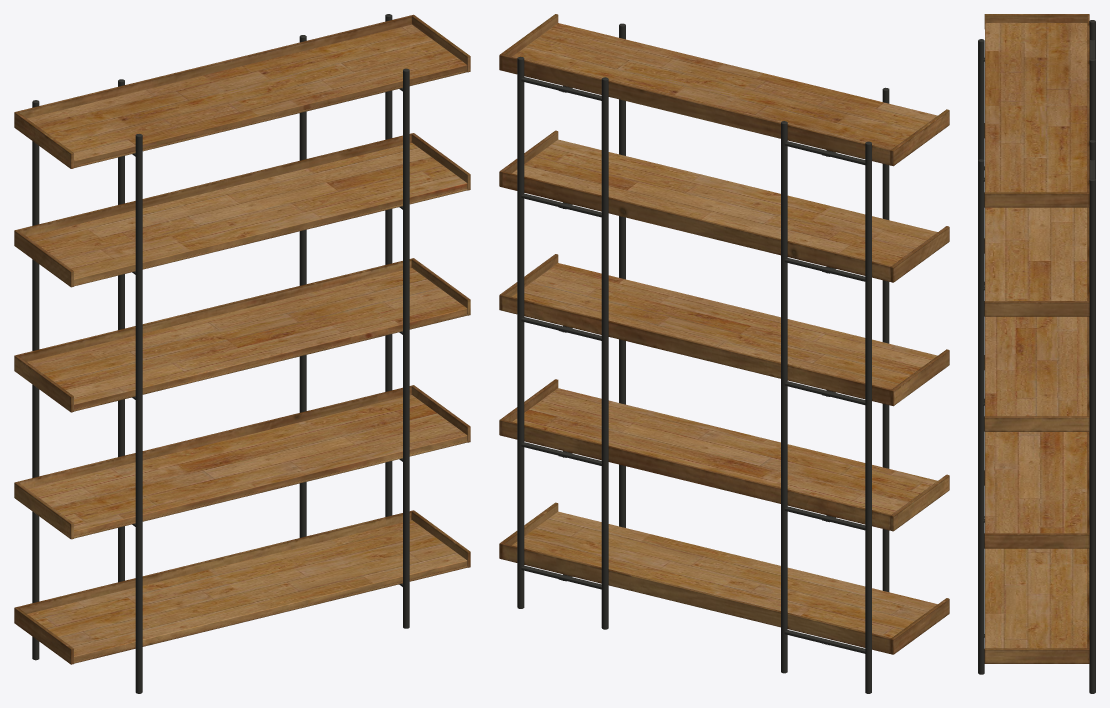
The model's file is bookshelf_B07HSLTLGP.glb.
The picture shows the model from 3 angles, left to right: view 1: azimuth 30°, elevation 25°; view 2: azimuth 150°, elevation 25°; view 3: azimuth 270°, elevation 25°; orthographic projection. The views are drawn at different scales.
Parts seen in each view (by area): view 1: RootNode; view 2: RootNode; view 3: RootNode.
Boxes of the visible parts, bbox=[...] form: RootNode: bbox=[14, 14, 470, 693]; RootNode: bbox=[499, 14, 949, 693]; RootNode: bbox=[978, 14, 1095, 693].
Size of the model in its own units: 1.37 by 1.83 by 0.3795.
Materials: 1 (1 with a texture image).
